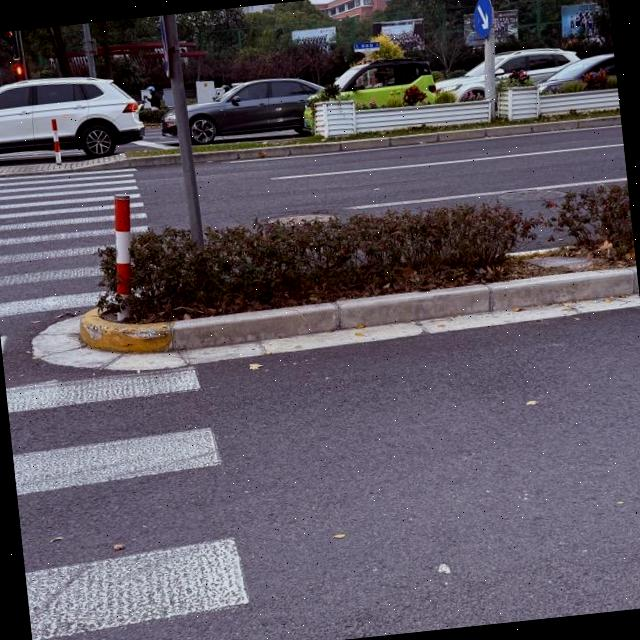curb: (79, 267, 638, 352), (194, 115, 620, 162), (83, 153, 179, 167)
